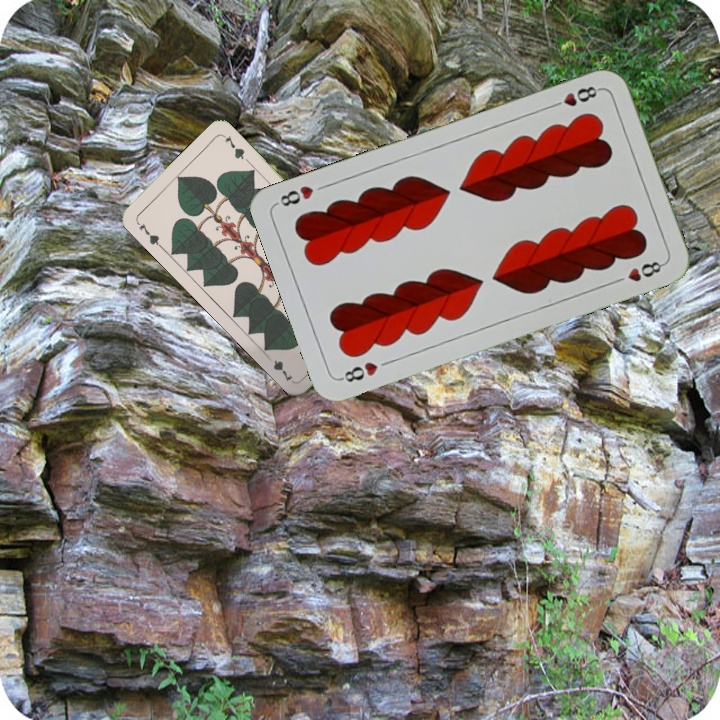G7: (132, 217, 164, 250)
H8: (546, 82, 604, 111), (336, 357, 381, 385)
